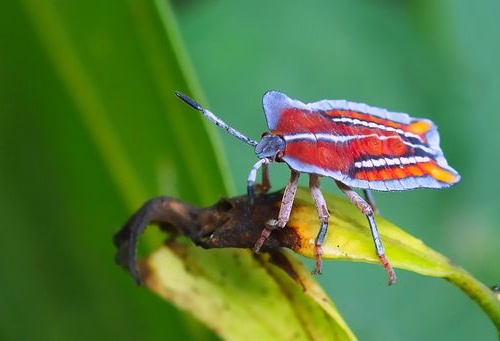Stink_Bug: (240, 111, 438, 209)
